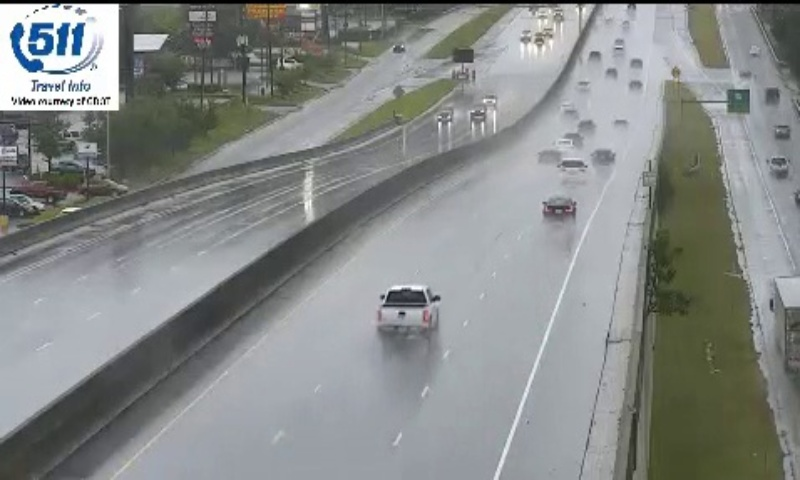car: (378, 283, 436, 333), (543, 196, 575, 222)
